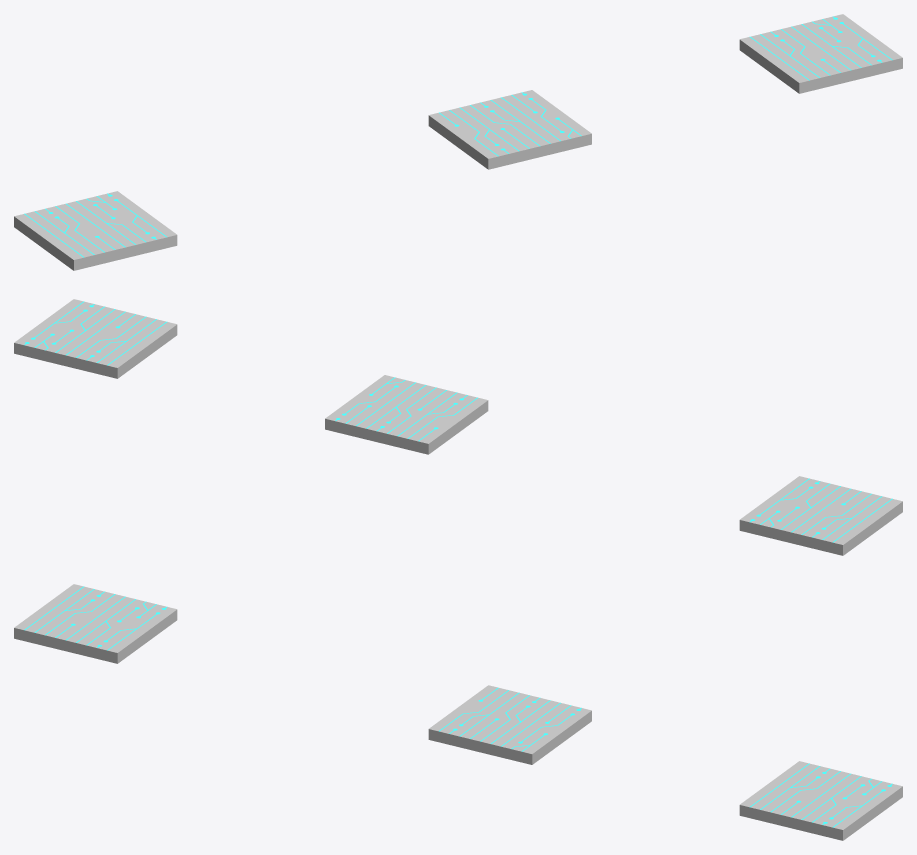
The model's file is floor_plat6.glb.
3 renders of one model, top to bottom at view 1: azimuth 30°, elevation 25°; view 2: azimuth 150°, elevation 25°; view 3: azimuth 330°, elevation 25°, orthographic.
Parts seen in each view (by area): view 1: Cube.006, Plane.047; view 2: Cube.006, Plane.047; view 3: Cube.006, Plane.047.
Boxes of the visible parts, x1=… form: Cube.006: x1=14, y1=14, x2=902, y2=270; Plane.047: x1=24, y1=16, x2=892, y2=257; Cube.006: x1=14, y1=299, x2=902, y2=555; Plane.047: x1=24, y1=301, x2=892, y2=542; Cube.006: x1=14, y1=584, x2=902, y2=840; Plane.047: x1=24, y1=586, x2=892, y2=827.
Size of the model in its own units: 160 by 2.01 by 20.
